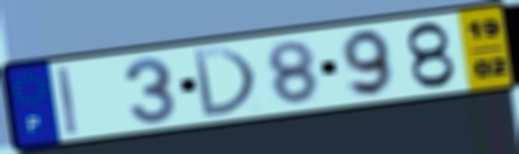3: (122, 55, 178, 126)
8: (261, 39, 322, 106), (404, 20, 458, 90)
9: (337, 27, 397, 100)
D: (189, 45, 260, 120)
I: (54, 65, 81, 137)
